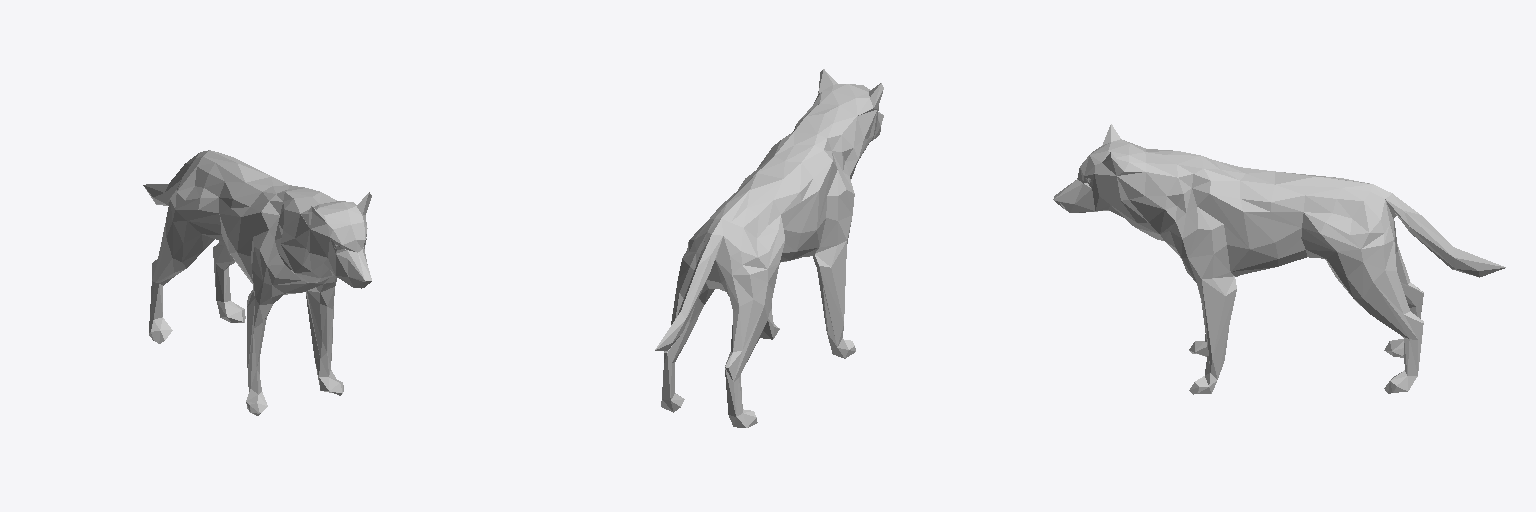
Rendered from Wolf.obj.
The picture shows the model from 3 angles: view 1: azimuth 30°, elevation 25°; view 2: azimuth 150°, elevation 25°; view 3: azimuth 270°, elevation 25°; orthographic projection.
Visible parts, largest first — view 1: wolf; view 2: wolf; view 3: wolf.
Boxes of the visible parts, x1=… form: wolf: x1=143, y1=150, x2=371, y2=415; wolf: x1=655, y1=69, x2=883, y2=427; wolf: x1=1053, y1=124, x2=1505, y2=394.
Size of the model in its own units: 0.1904 by 0.4579 by 0.7936.